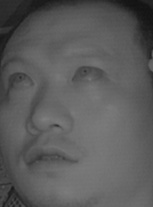eye: (71, 63, 106, 85), (7, 68, 37, 92)
mouth: (20, 138, 82, 175)
